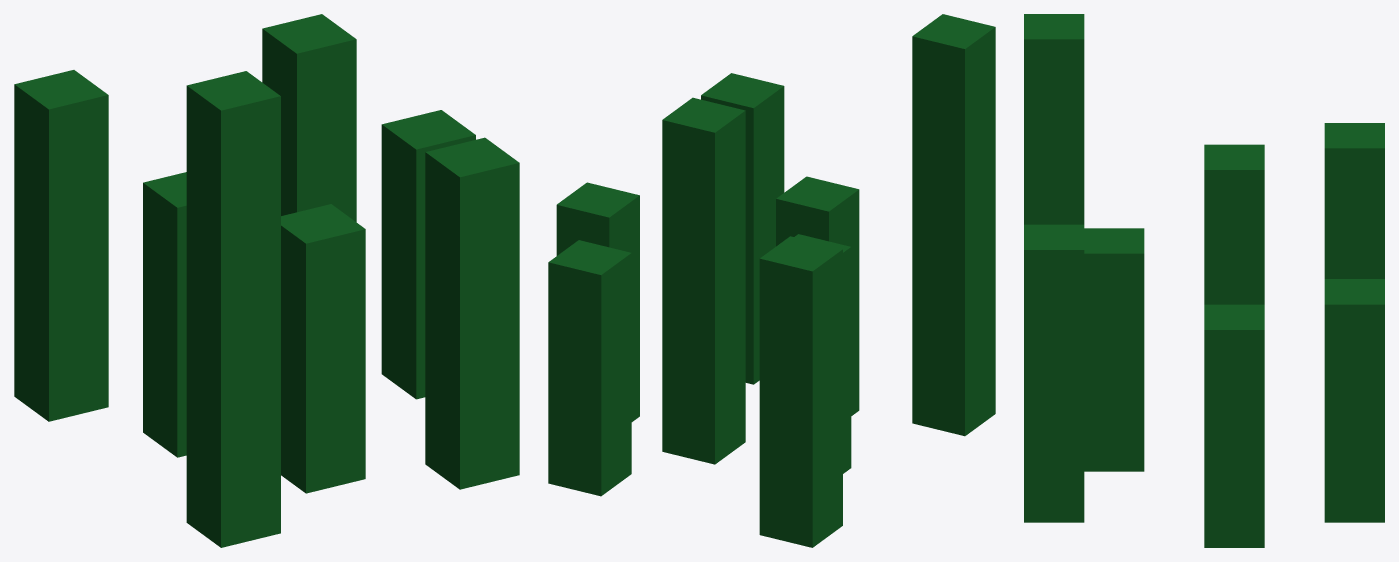
File: grass_spikes_3.obj
3 views of the same model, side by side, from view 1: azimuth 30°, elevation 25°; view 2: azimuth 150°, elevation 25°; view 3: azimuth 270°, elevation 25° (orthographic). The views are drawn at different scales.
Bounding box in the file's own units: 0.6 × 0.7 × 0.6.
Materials: 1 (1 with a texture image).
